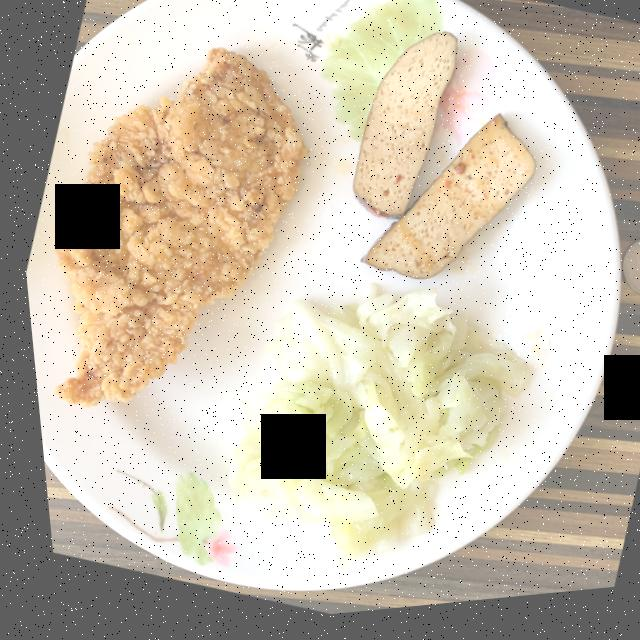cabbage: (218, 297, 520, 573)
coin: (615, 250, 640, 309)
firm tofu: (348, 41, 530, 287)
fried chicken cutlet: (48, 52, 302, 408)
